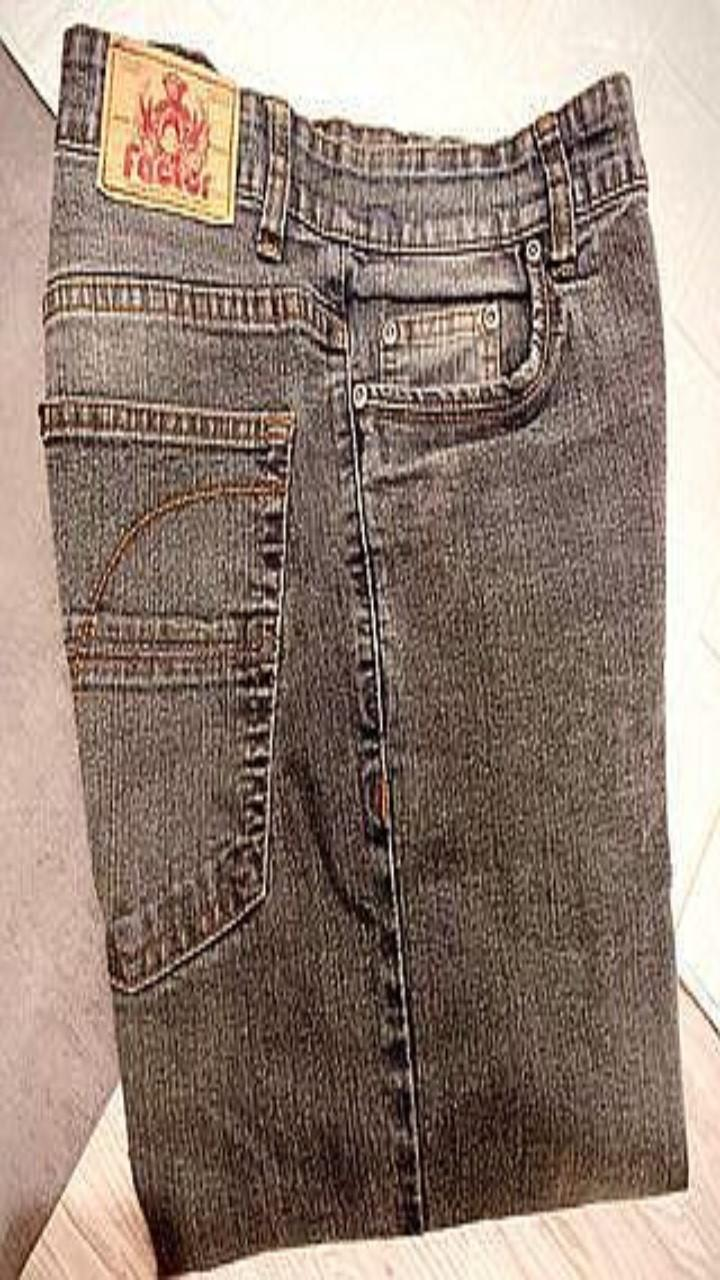Shorts: (39, 25, 687, 1274)
